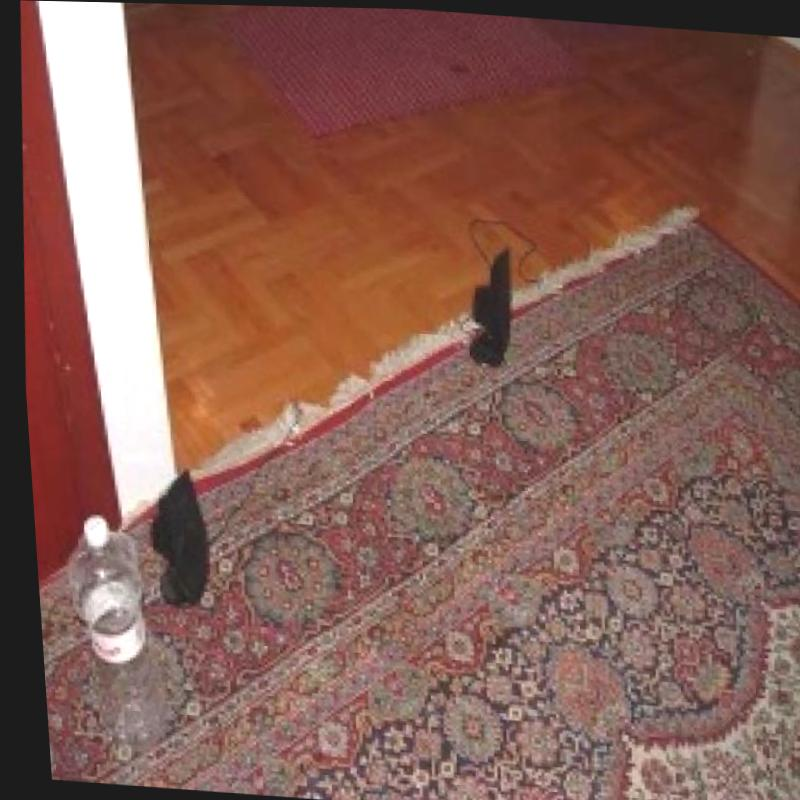botella: (61, 514, 158, 725)
